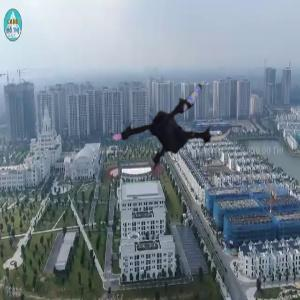drone: (111, 60, 237, 186)
